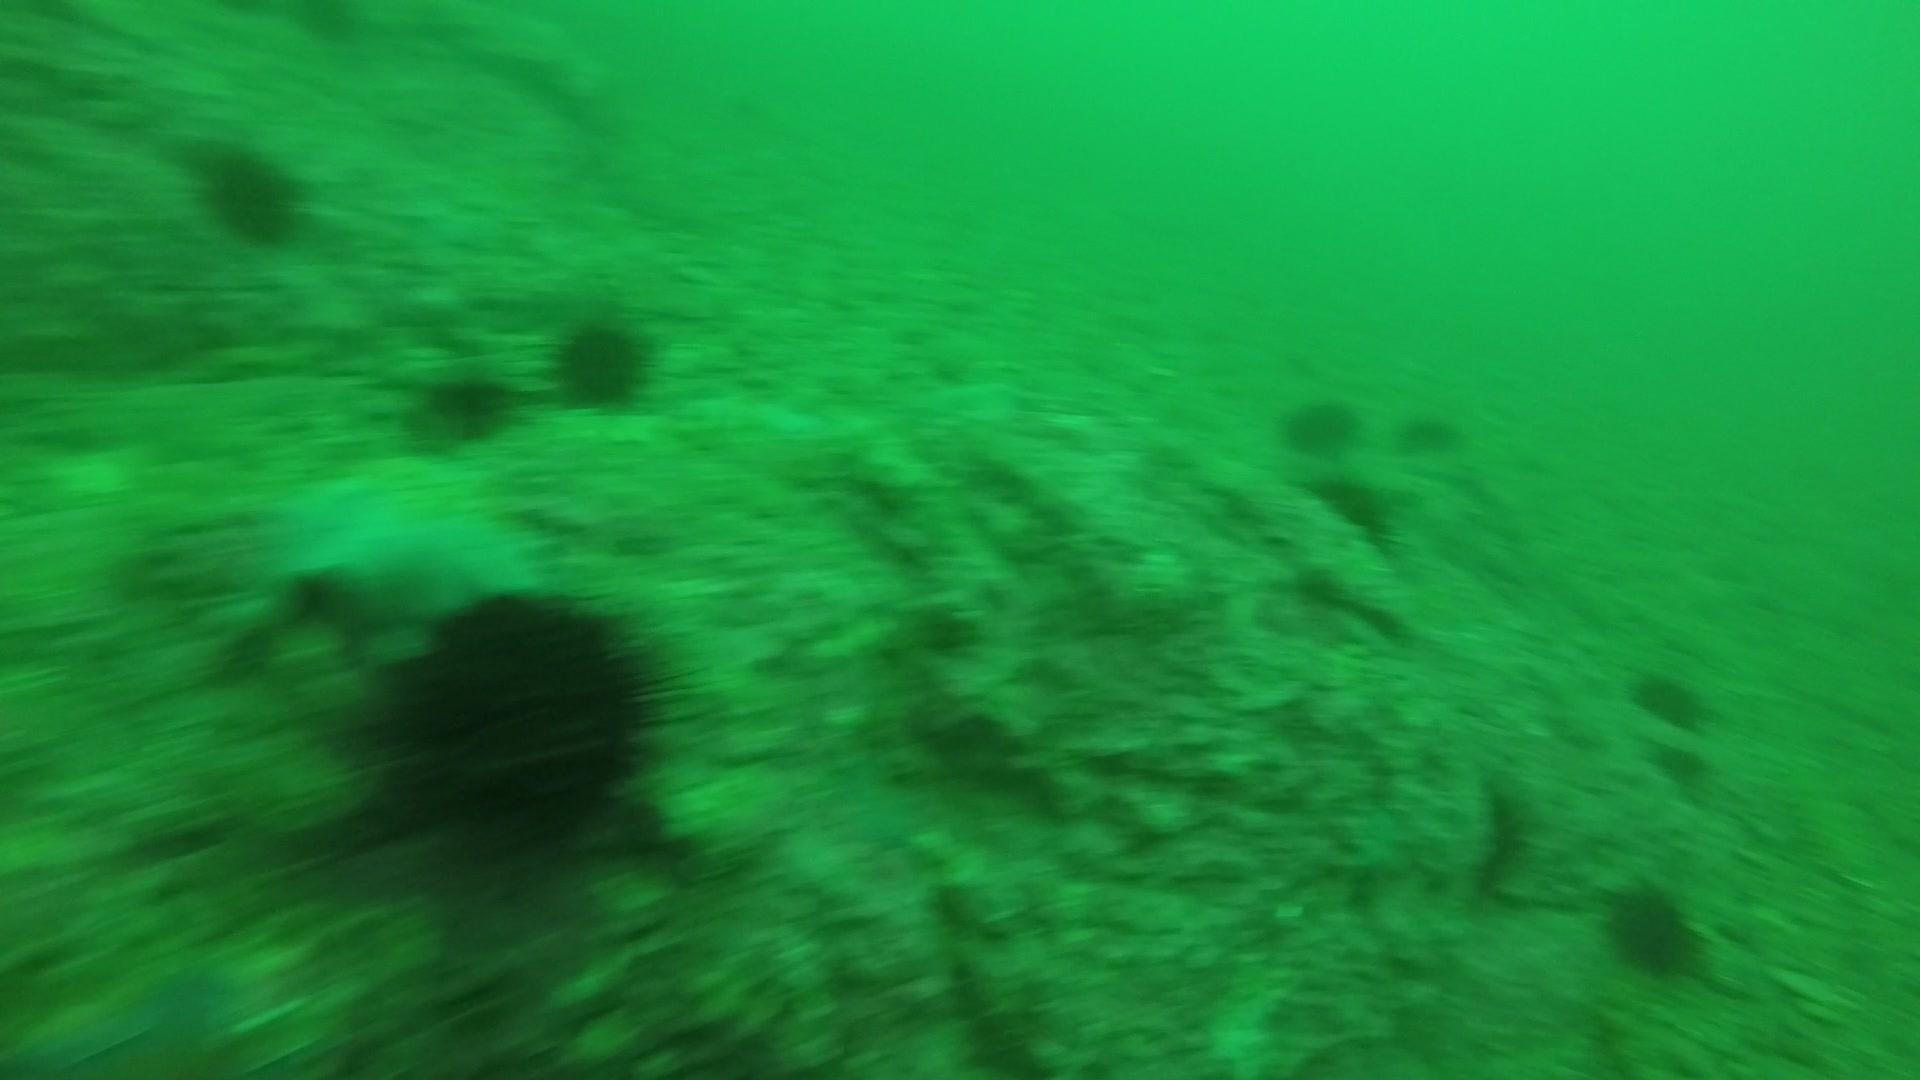echinus: (355, 582, 680, 866), (189, 135, 313, 251), (545, 309, 659, 415), (1596, 876, 1708, 982), (401, 357, 521, 452), (1307, 467, 1400, 547), (1625, 662, 1713, 736), (1275, 388, 1364, 460), (1395, 402, 1466, 459)
starfish: (245, 446, 562, 626), (5, 924, 305, 1076)
